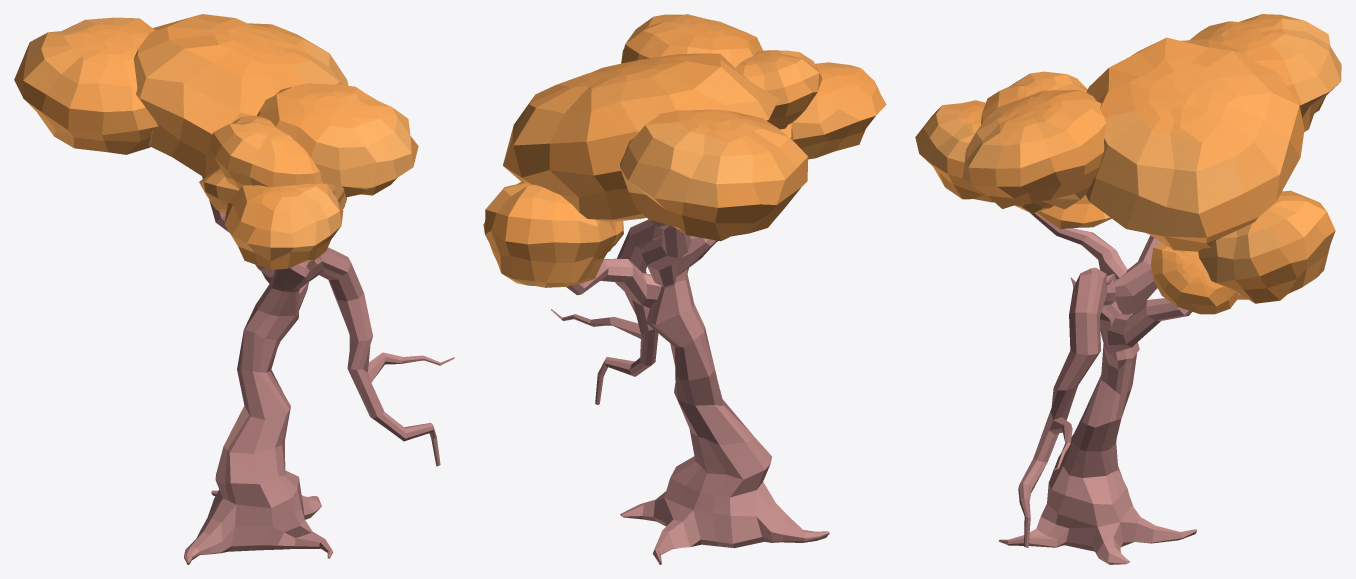
The model's file is tree_2_b.glb.
The picture shows the model from 3 angles, left to right: view 1: azimuth 30°, elevation 25°; view 2: azimuth 150°, elevation 25°; view 3: azimuth 270°, elevation 25°; orthographic projection. The views are drawn at different scales.
Parts seen in each view (by area): view 1: crown_2_b, trunk_2_b; view 2: crown_2_b, trunk_2_b; view 3: crown_2_b, trunk_2_b.
Boxes of the visible parts, x1,y1,x2,y2 form: crown_2_b: [14, 14, 418, 269]; trunk_2_b: [184, 176, 454, 564]; crown_2_b: [483, 14, 886, 287]; trunk_2_b: [551, 219, 829, 564]; crown_2_b: [915, 14, 1341, 314]; trunk_2_b: [999, 213, 1196, 564].
Bounding box in the file's own units: 3.91 × 5.36 × 4.36.
Materials: 1 (1 with a texture image).
